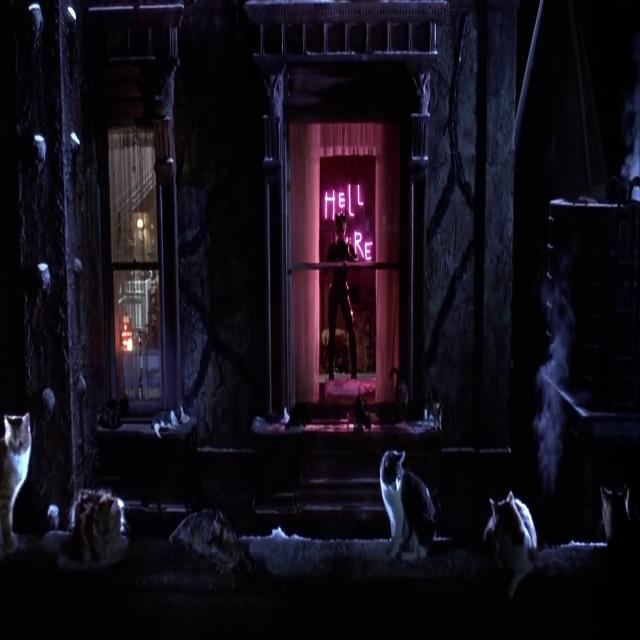Cat: (381, 440, 439, 577), (60, 477, 131, 583), (475, 472, 534, 594), (0, 380, 37, 572), (165, 487, 234, 585), (588, 475, 637, 569), (96, 384, 135, 447), (148, 398, 192, 444), (275, 395, 310, 443)
People: (299, 199, 369, 392)
